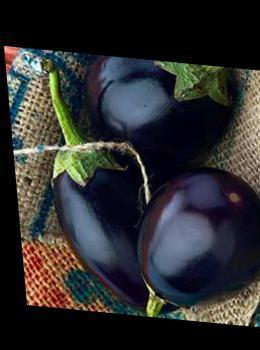eggplant: (26, 46, 250, 308), (122, 153, 259, 317)
